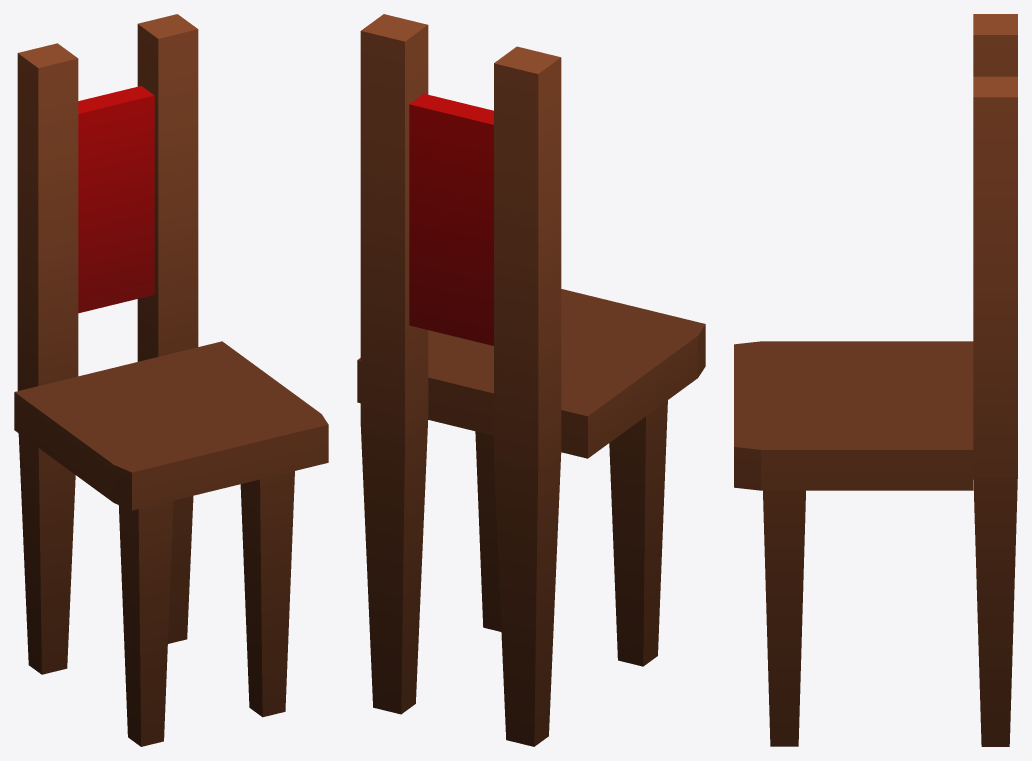
The model's file is Chair.fbx.
3 views of the same model, side by side, from view 1: azimuth 30°, elevation 25°; view 2: azimuth 150°, elevation 25°; view 3: azimuth 270°, elevation 25° (orthographic). The views are drawn at different scales.
Visible parts, largest first — view 1: Cube.003; view 2: Cube.003; view 3: Cube.003.
Boxes of the visible parts, left/top/right/bottom form: Cube.003: left=14, top=14, right=328, bottom=746; Cube.003: left=357, top=14, right=705, bottom=746; Cube.003: left=734, top=14, right=1017, bottom=746.
Size of the model in its own units: 46.14 by 130 by 51.01.
